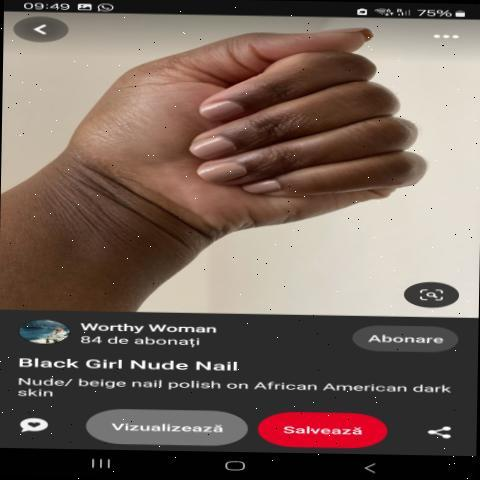Hands: (70, 16, 438, 274)
